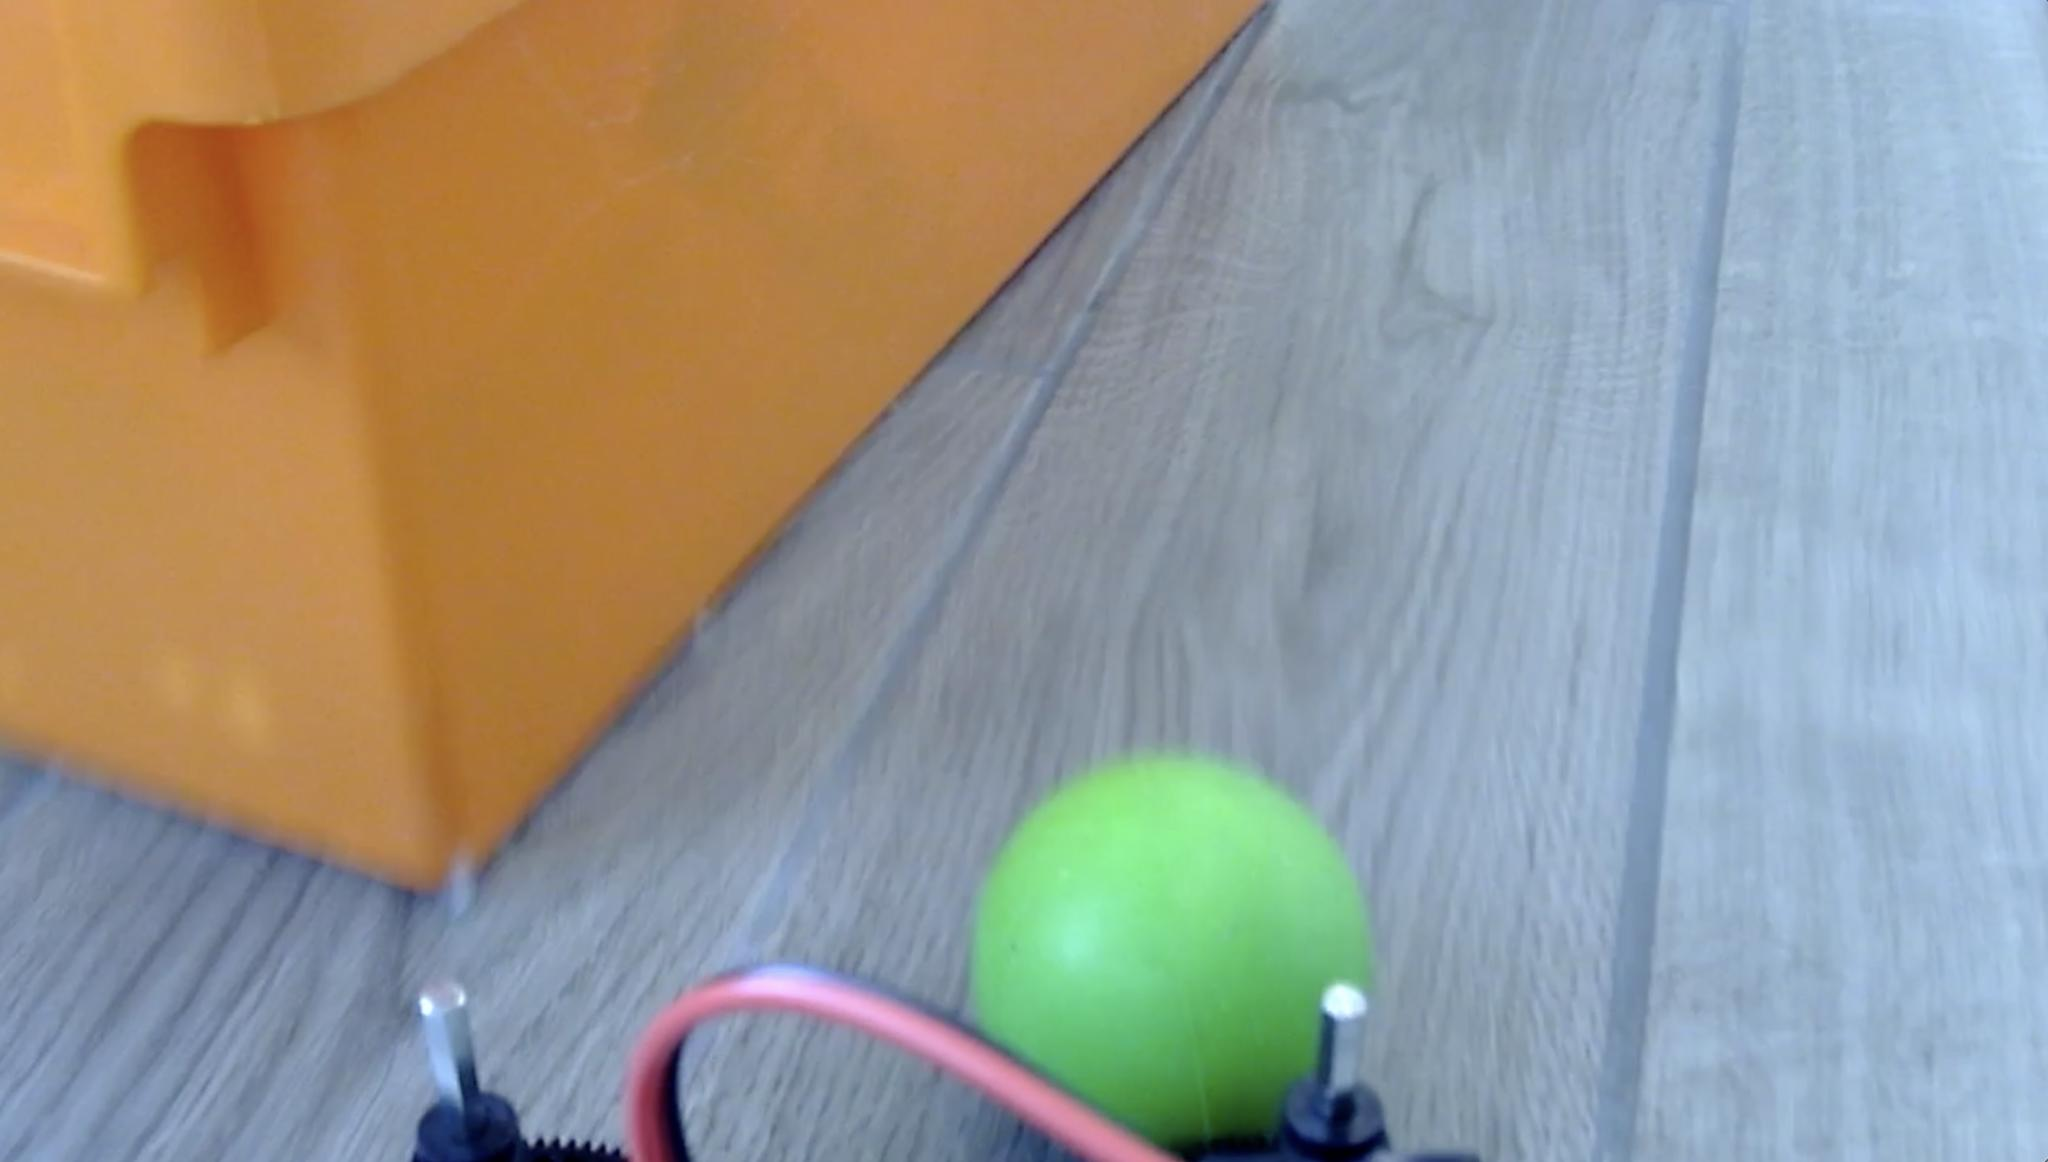greenball: (962, 747, 1377, 1149)
